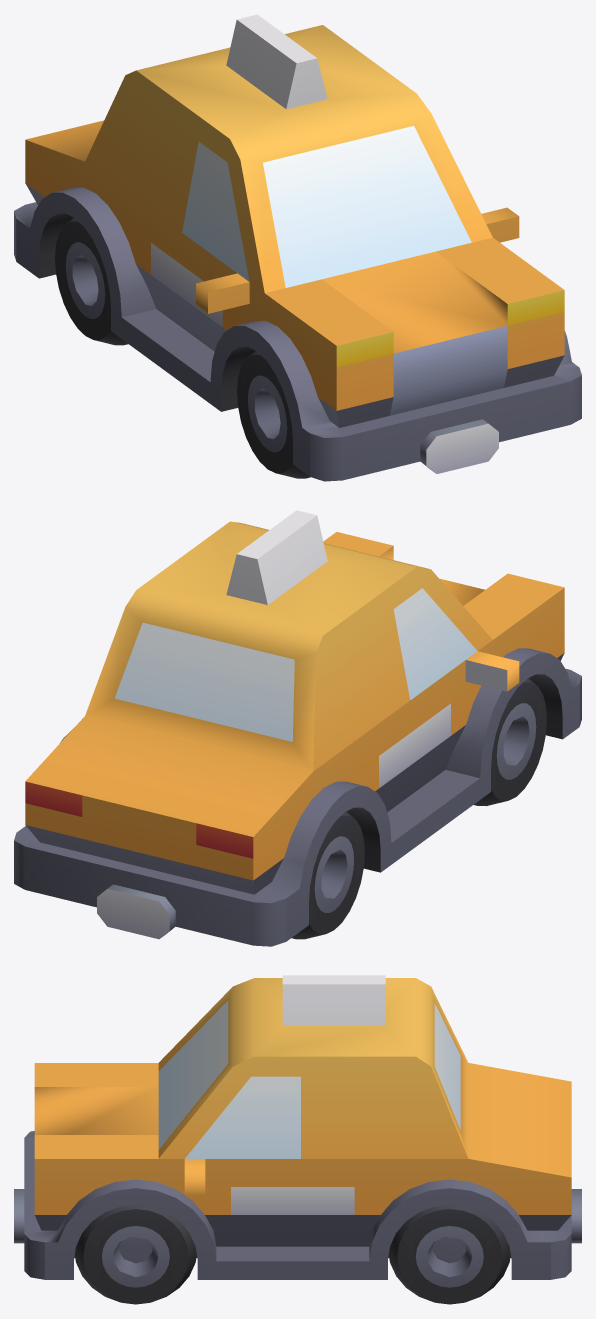
The model's file is traffic_taxi.glb.
3 views of the same model, one above another, from view 1: azimuth 30°, elevation 25°; view 2: azimuth 150°, elevation 25°; view 3: azimuth 270°, elevation 25° (orthographic). The views are drawn at different scales.
Parts seen in each view (by area): view 1: body; view 2: body; view 3: body.
Boxes of the visible parts, x1=… form: body: x1=14, y1=14, x2=581, y2=481; body: x1=14, y1=510, x2=581, y2=946; body: x1=14, y1=975, x2=581, y2=1304.
Size of the model in its own units: 1.5 by 1.5 by 2.75.
Materials: 1 (1 with a texture image).
